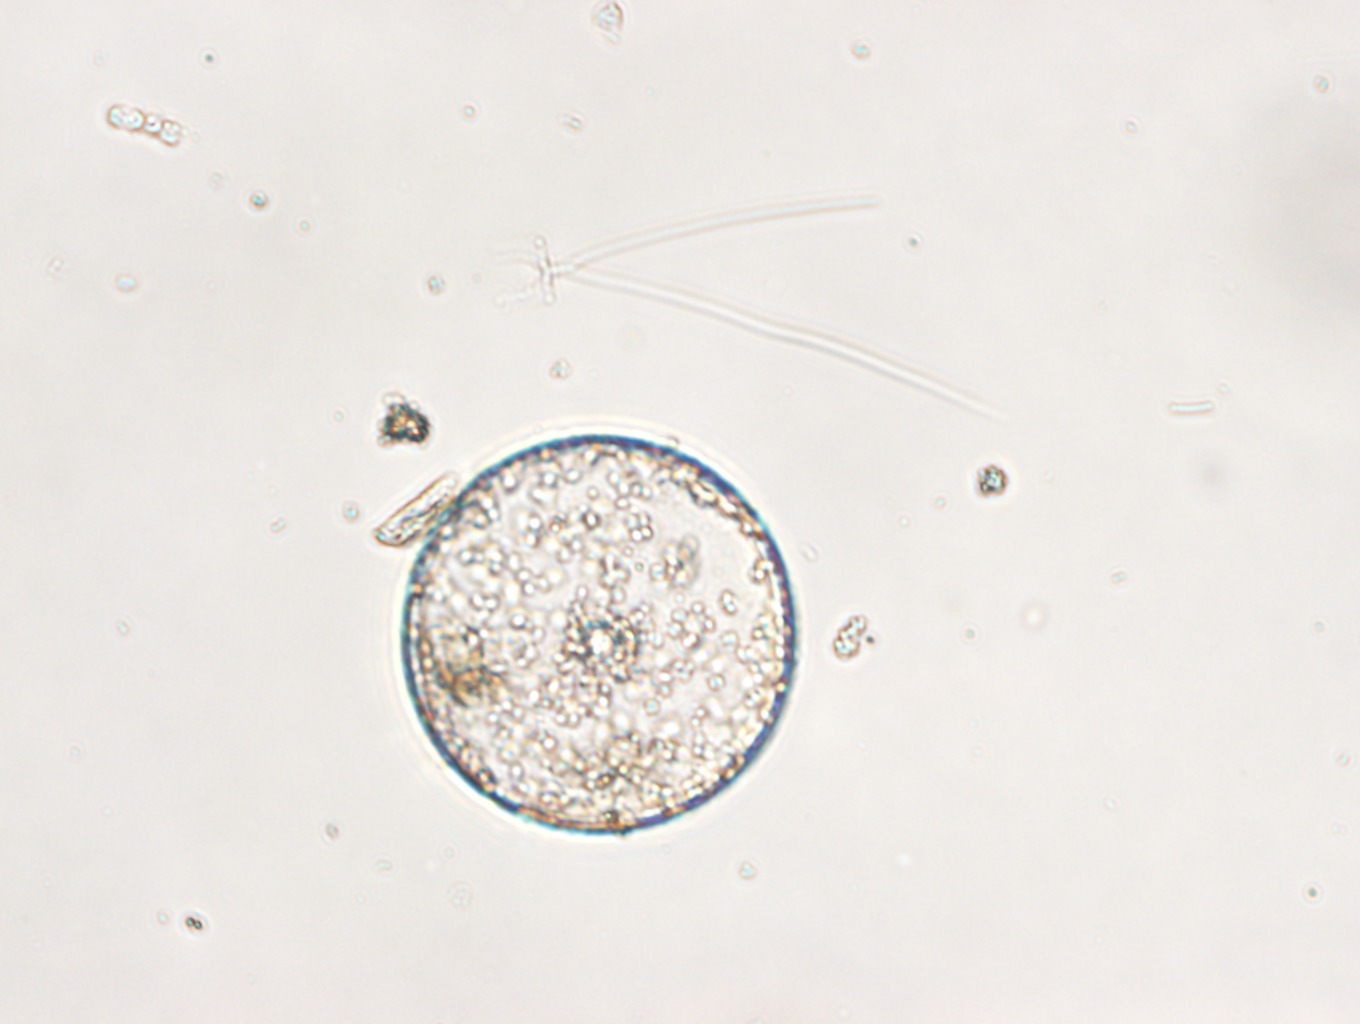coscinodiscus: (398, 432, 799, 835)
